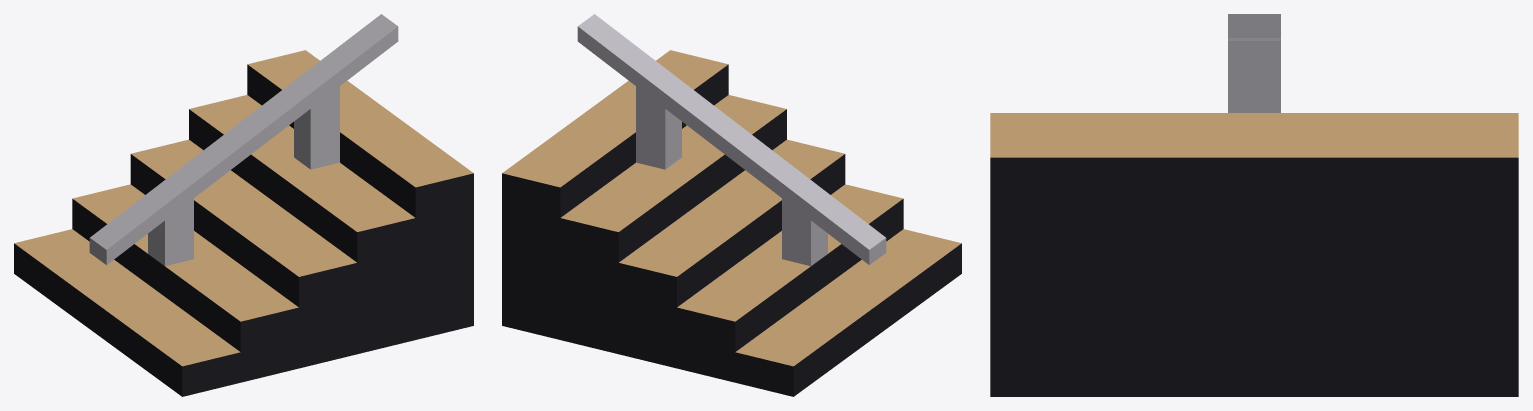
Rendered from Rail_StairsShort.fbx.
The picture shows the model from 3 angles, left to right: view 1: azimuth 30°, elevation 25°; view 2: azimuth 150°, elevation 25°; view 3: azimuth 270°, elevation 25°; orthographic projection. The views are drawn at different scales.
Parts seen in each view (by area): view 1: Rail_StairsShort; view 2: Rail_StairsShort; view 3: Rail_StairsShort.
Boxes of the visible parts, x1,y1,x2,y2 form: Rail_StairsShort: (14,14,473,396); Rail_StairsShort: (502,14,961,396); Rail_StairsShort: (990,14,1518,396).
Size of the model in its own units: 10 by 8 by 10.
